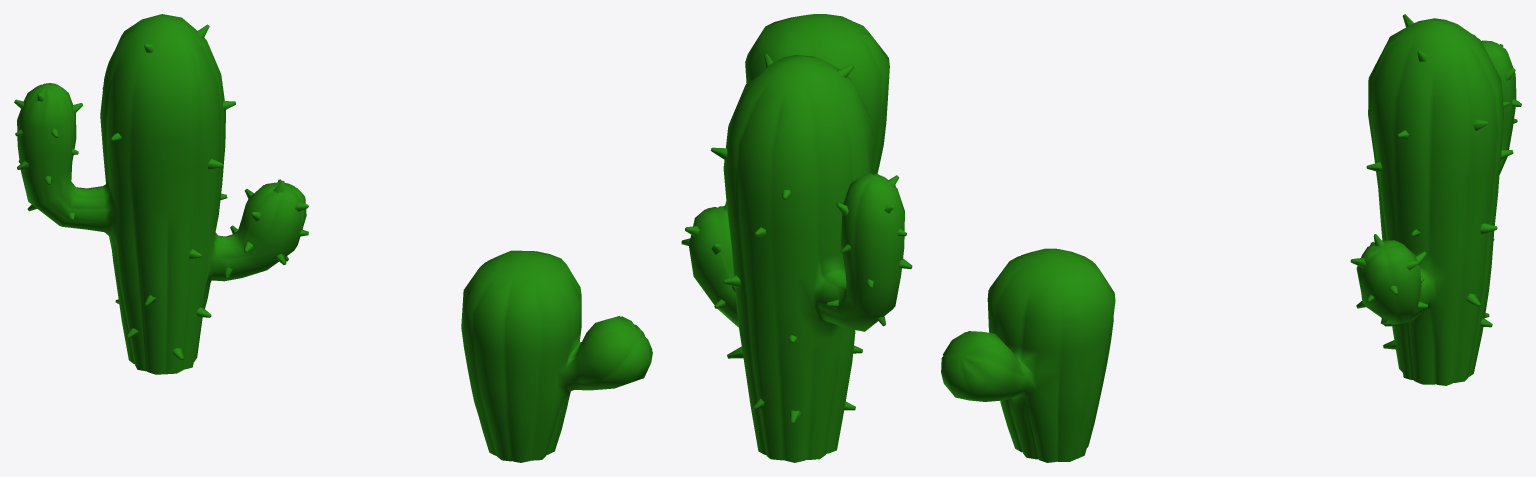
Rendered from Model_Cactus.fbx.
3 views of the same model, side by side, from view 1: azimuth 30°, elevation 25°; view 2: azimuth 150°, elevation 25°; view 3: azimuth 270°, elevation 25° (orthographic). The views are drawn at different scales.
Visible parts, largest first — view 1: Obj3d66-1611312-10-674, Obj3d66-1611312-3-571, Obj3d66-1611312-9-718; view 2: Obj3d66-1611312-10-674, Obj3d66-1611312-3-571, Obj3d66-1611312-9-718; view 3: Obj3d66-1611312-10-674, Obj3d66-1611312-3-571, Obj3d66-1611312-9-718.
Boxes of the visible parts, <box> form: Obj3d66-1611312-10-674: <box>17,14,306,374</box>; Obj3d66-1611312-3-571: <box>461,250,652,462</box>; Obj3d66-1611312-9-718: <box>14,24,308,360</box>; Obj3d66-1611312-10-674: <box>688,55,904,462</box>; Obj3d66-1611312-3-571: <box>745,14,889,174</box>; Obj3d66-1611312-9-718: <box>681,54,912,424</box>; Obj3d66-1611312-10-674: <box>1356,18,1516,385</box>; Obj3d66-1611312-3-571: <box>941,248,1115,462</box>; Obj3d66-1611312-9-718: <box>1350,14,1521,349</box>.
Size of the model in its own units: 360 by 306 by 463.
